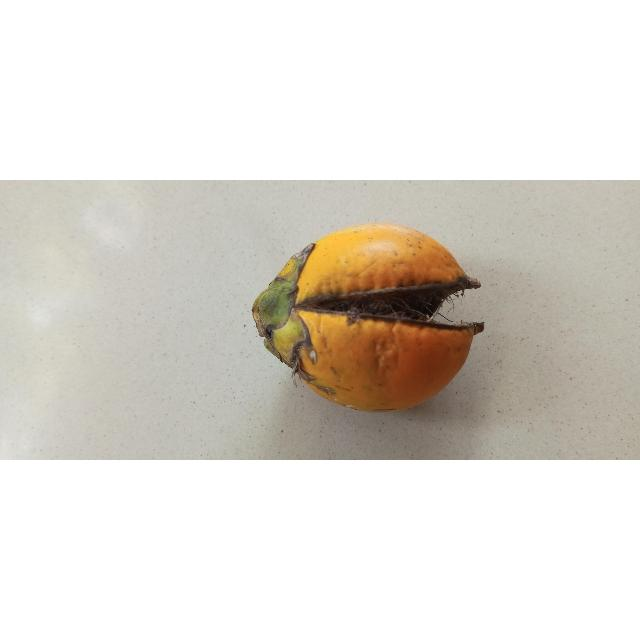damaged: (252, 223, 484, 413)
